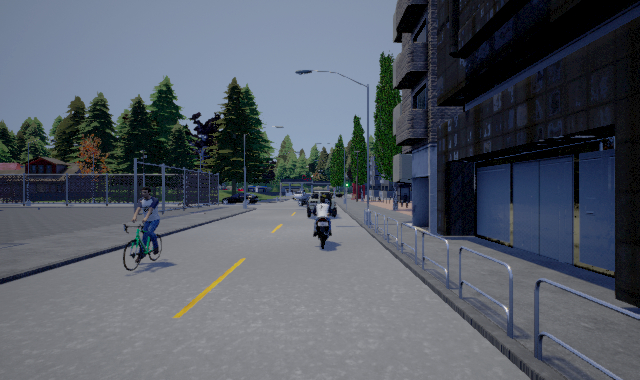bike: (123, 186, 166, 270)
motobike: (312, 198, 335, 248)
traffic_light: (345, 176, 349, 187)
vehicle: (293, 189, 337, 218), (222, 191, 260, 205)
